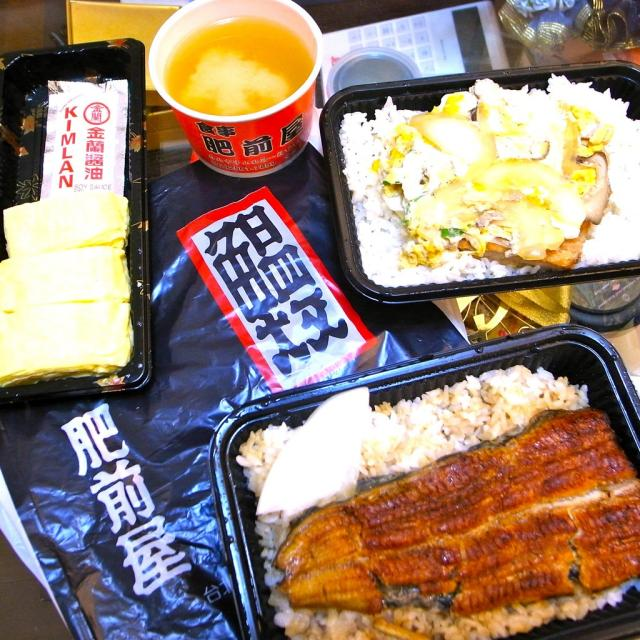Tea: (156, 16, 316, 113)
